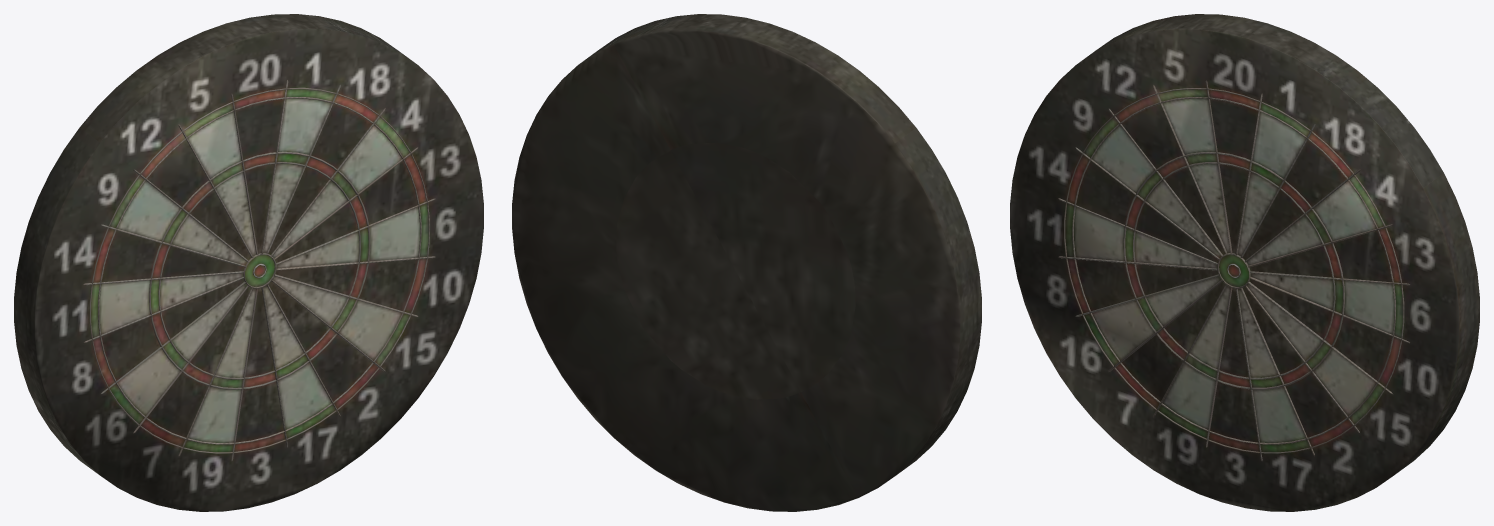
File: dartboard.mid.glb
3 views of the same model, side by side, from view 1: azimuth 30°, elevation 25°; view 2: azimuth 150°, elevation 25°; view 3: azimuth 330°, elevation 25° (orthographic).
Parts seen in each view (by area): view 1: dartboard; view 2: dartboard; view 3: dartboard.
Boxes of the visible parts, left/top/right/bottom form: dartboard: left=14, top=14, right=483, bottom=511; dartboard: left=512, top=14, right=981, bottom=511; dartboard: left=1010, top=14, right=1479, bottom=511.
Size of the model in its own units: 0.4507 by 0.4507 by 0.0398.
1 material, 1 textured.
